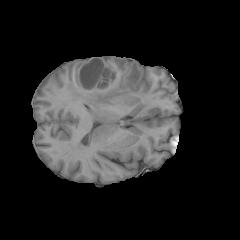glioma: (62, 57, 142, 109)
